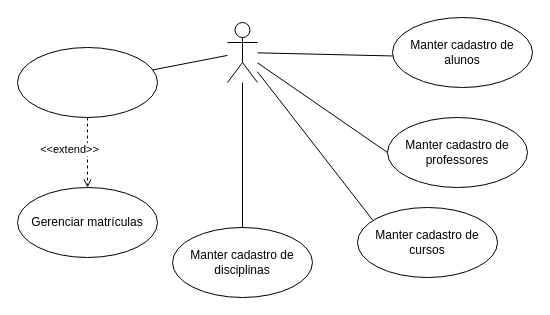
Some shapes in this 550 by 315 pixel diagram are drawn without their labels. The shapes that lost their labels are listed below. From the top down, each one's centre as x and y in pixels, then its label:
At (242,52): "Administrador".
At (87,82): "Gerenciar notas de alunos".
